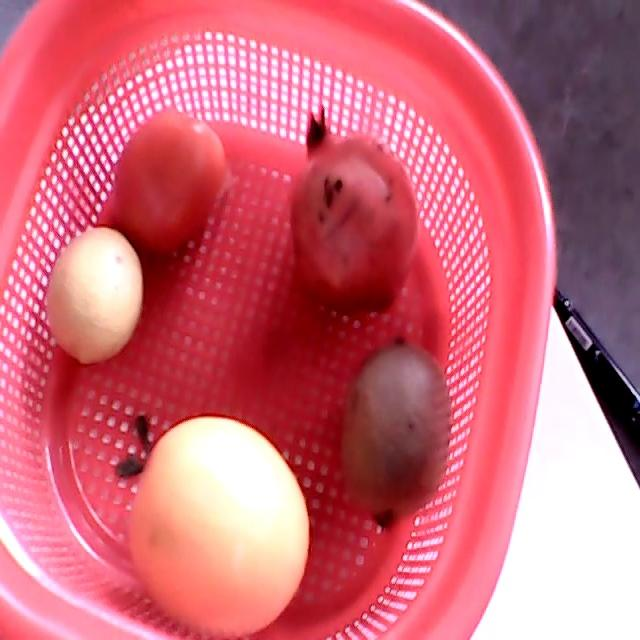kiwi: (342, 335, 450, 528)
lemon: (47, 230, 143, 364)
orange: (116, 415, 309, 638)
pomegranate: (289, 107, 420, 316)
tomato: (113, 108, 223, 254)
